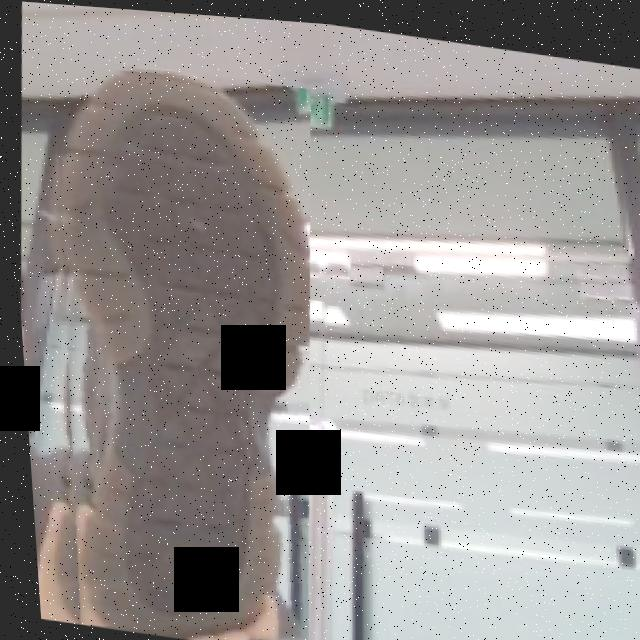shoe: (12, 49, 339, 640)
